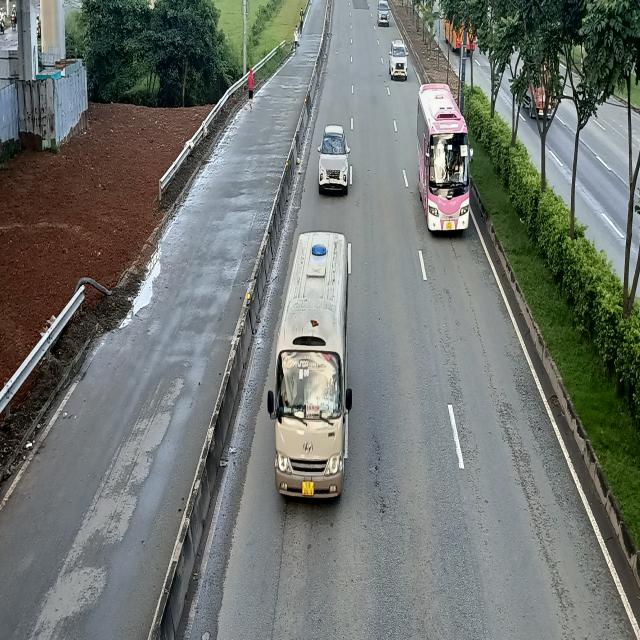car: (319, 124, 353, 194), (388, 41, 407, 81)
coach: (266, 233, 352, 509), (416, 84, 472, 234)
